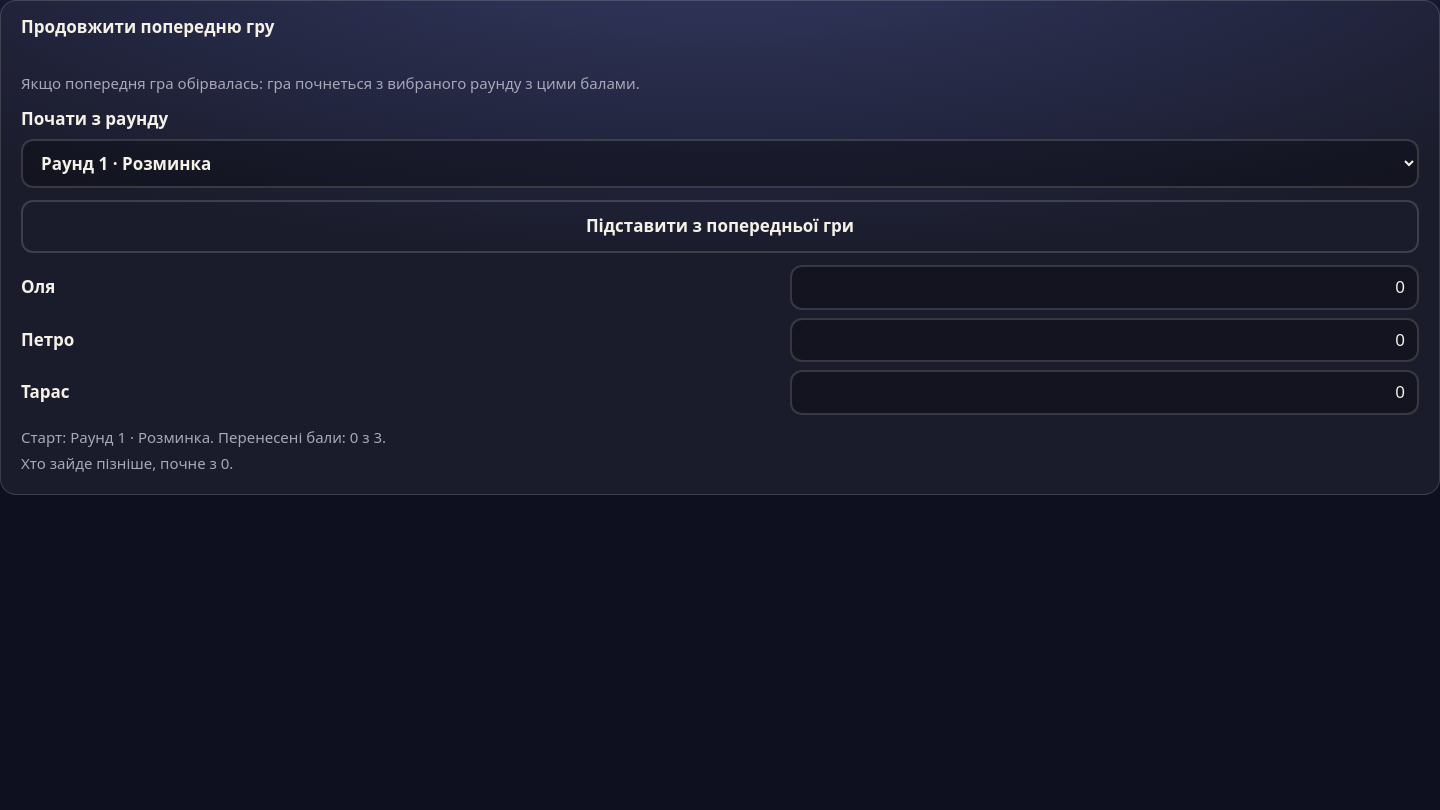
it: ResumePanel › several games: a pick newest first; a tap fills from that game and hides the pick
This screenshot has width=1440, height=810.
Click the button "Підставити з попередньої гри" at (720, 227), box 21,200 -> 1419,253
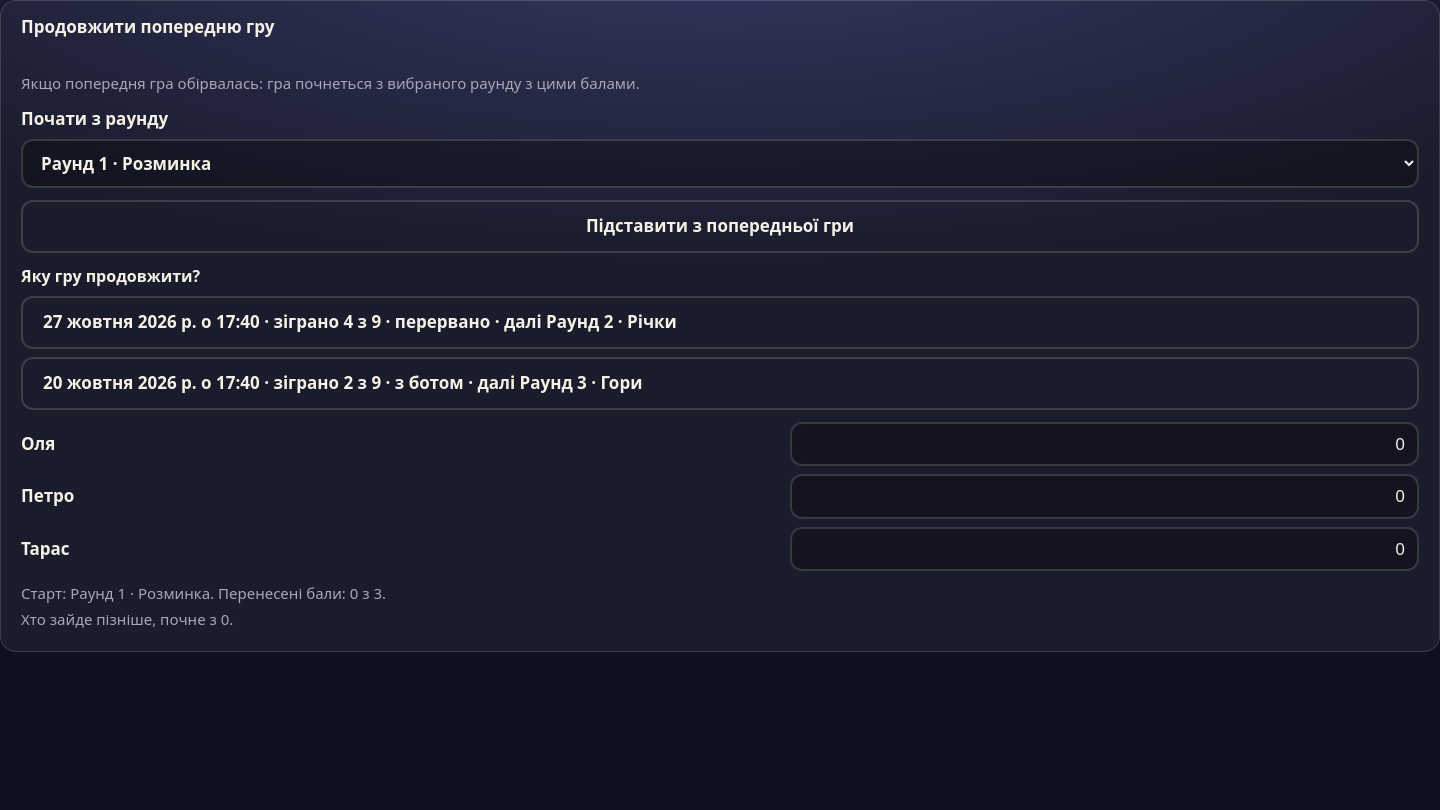
Now the 2nd button reads "27 жовтня 2026 р. о 17:40 · зіграно 4 з 9 · перервано · далі Раунд 2 · Річки", box 21,296 -> 1419,349
Now the 3rd button reads "20 жовтня 2026 р. о 17:40 · зіграно 2 з 9 · з ботом · далі Раунд 3 · Гори"
Click the 3rd button at (343, 382), box 21,357 -> 1419,410
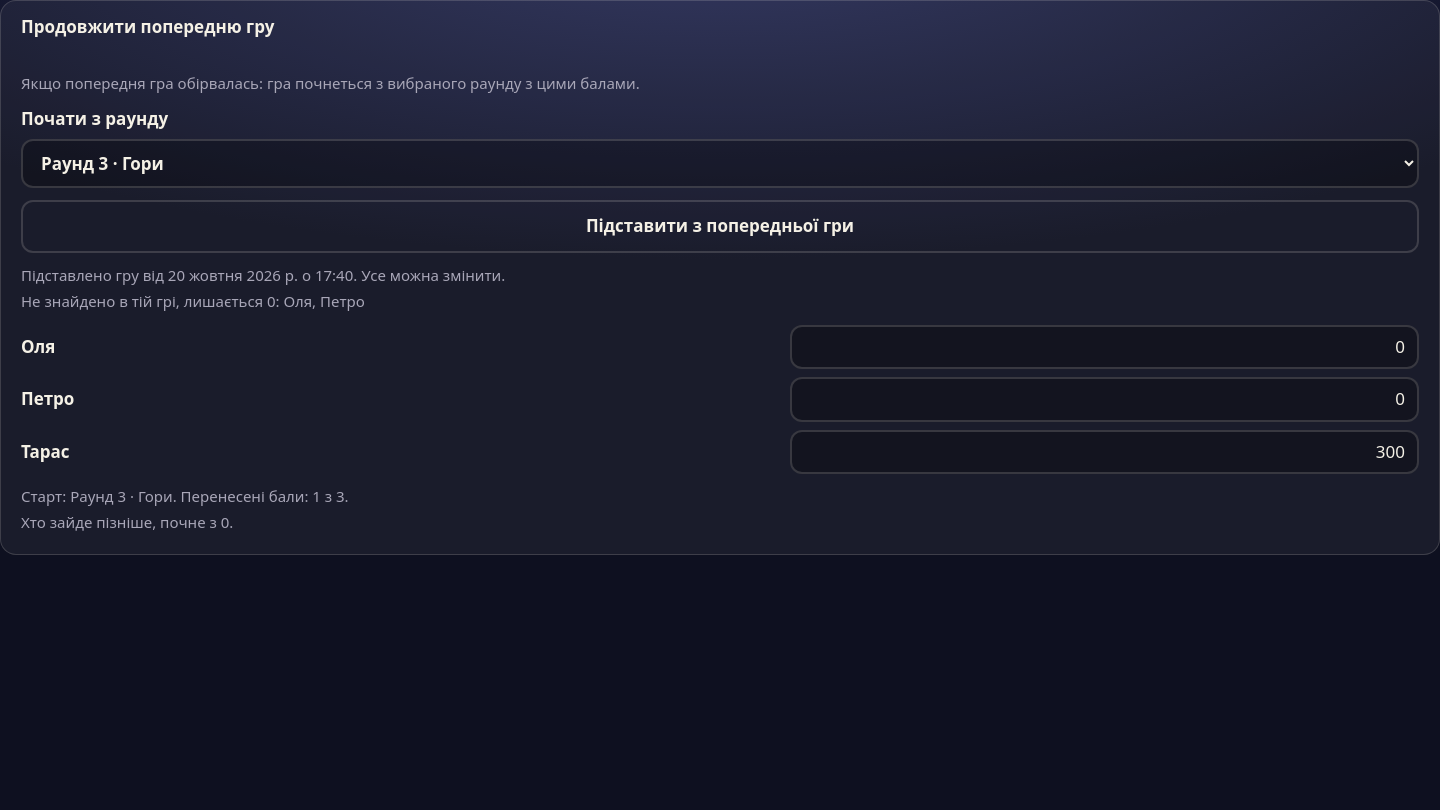
Now the element with class "resume-pick" is gone
Now the field labelled "Тарас" holds "300", box 790,430 -> 1419,474
Now the text "Не знайдено в тій грі, лишається 0: Оля, Петро" is shown, box 21,291 -> 365,311
